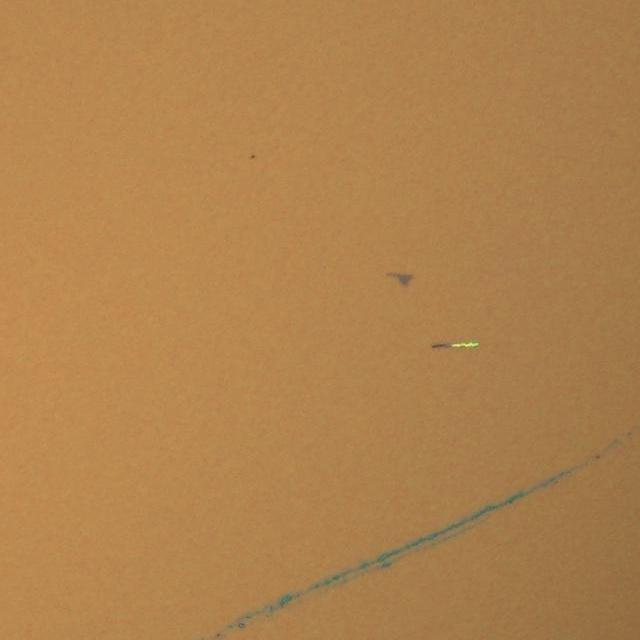monolayer-eWW4: (386, 272, 414, 287)
